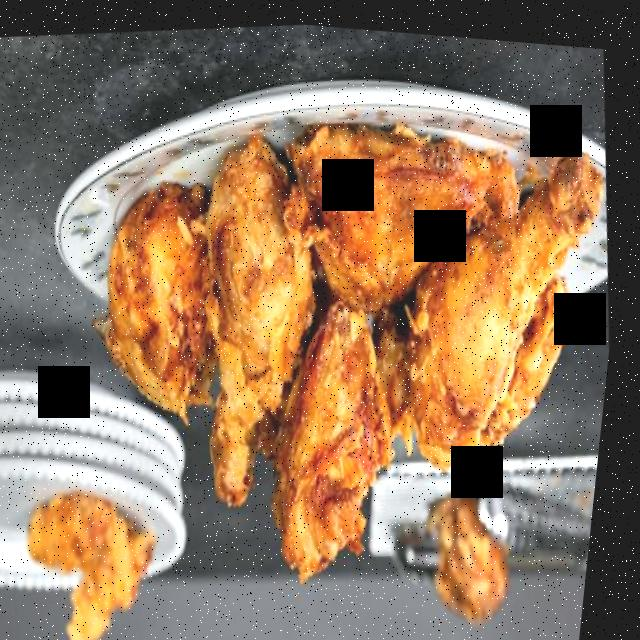Frango: (54, 67, 635, 621), (23, 481, 184, 640)
